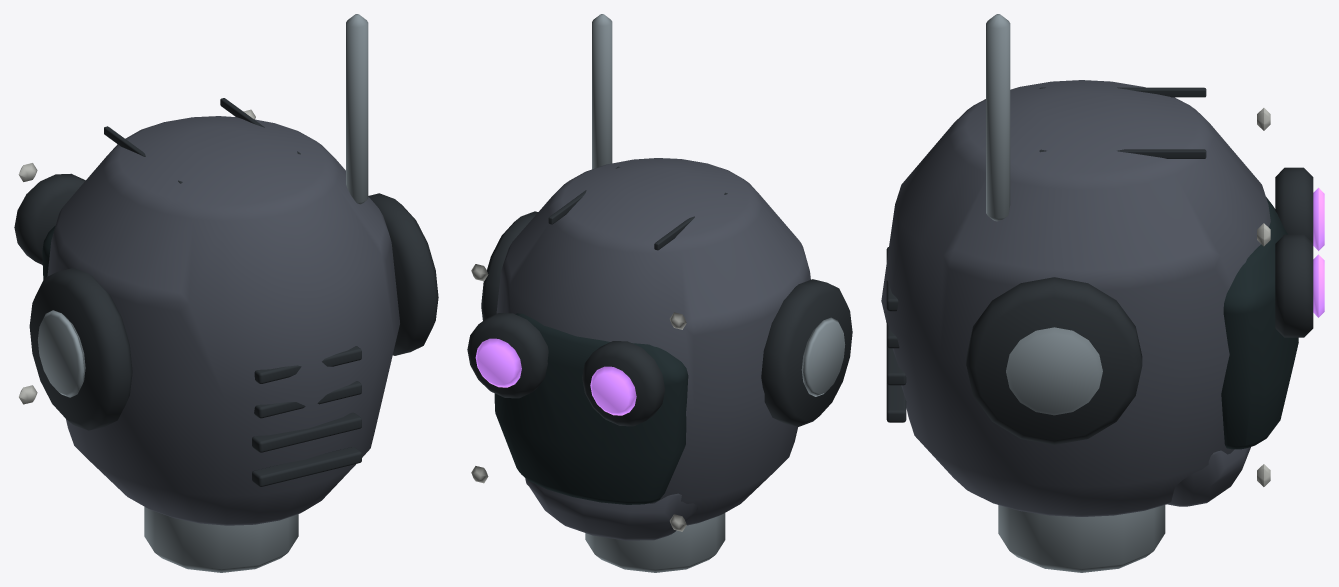
File: heads_04.glb
3 renders of one model, left to right at view 1: azimuth 30°, elevation 25°; view 2: azimuth 150°, elevation 25°; view 3: azimuth 270°, elevation 25°, orthographic. The views are drawn at different scales.
Parts seen in each view (by area): view 1: heads_04_Geometry; view 2: heads_04_Geometry; view 3: heads_04_Geometry.
Part boxes in pixels (left/top/right/bottom): heads_04_Geometry: left=14, top=14, right=438, bottom=572; heads_04_Geometry: left=467, top=14, right=852, bottom=572; heads_04_Geometry: left=881, top=14, right=1324, bottom=572.
Size of the model in its own units: 0.29 by 0.42 by 0.292.
